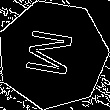M_E: (23, 27, 82, 81)
